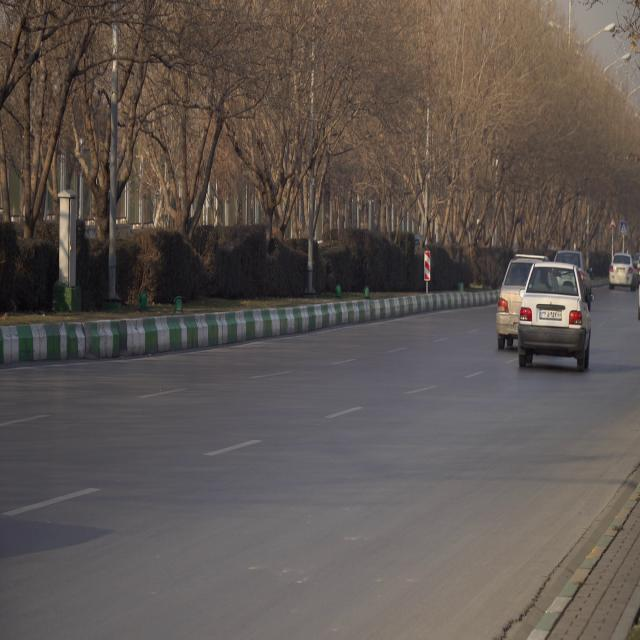truck: (520, 259, 590, 373), (496, 256, 538, 349), (610, 252, 636, 287)
